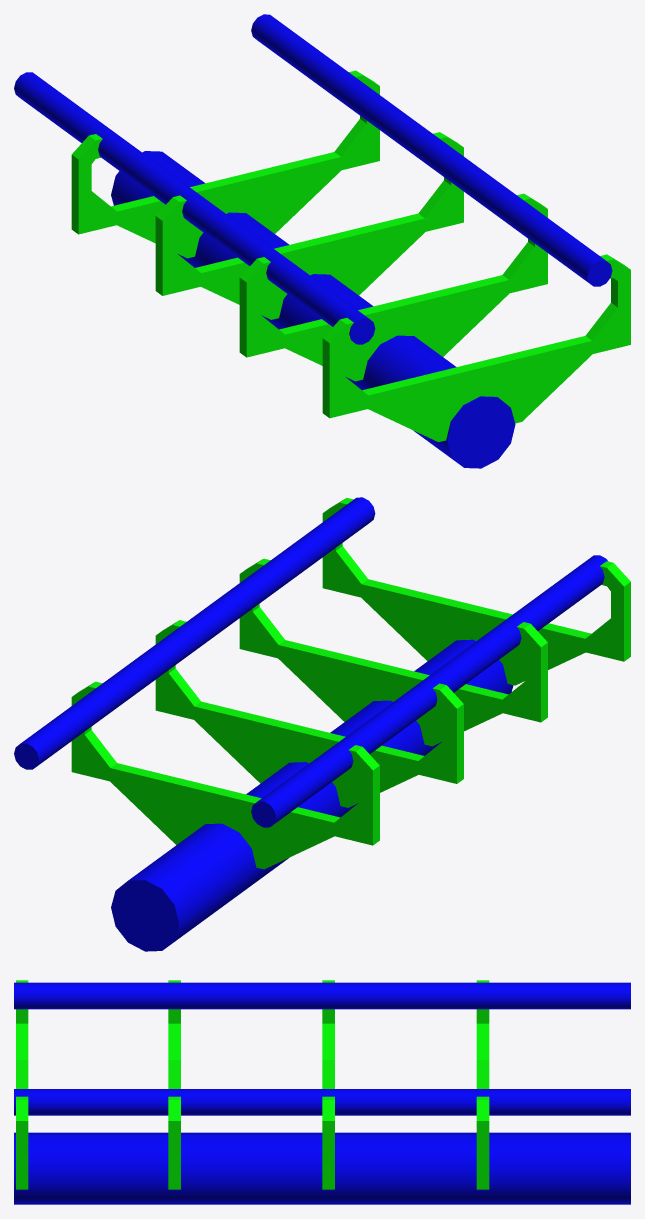
File: track_MOCKUP.fbx
3 renders of one model, top to bottom at view 1: azimuth 30°, elevation 25°; view 2: azimuth 150°, elevation 25°; view 3: azimuth 270°, elevation 25°, orthographic. The views are drawn at different scales.
Parts seen in each view (by area): view 1: track_MOCKUP; view 2: track_MOCKUP; view 3: track_MOCKUP.
Boxes of the visible parts, x1,y1,x2,y2 form: track_MOCKUP: [14, 14, 630, 468]; track_MOCKUP: [14, 497, 630, 951]; track_MOCKUP: [14, 980, 630, 1204].
Bounding box in the file's own units: 0.5174 × 0.294 × 1.
